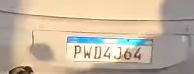Placa_mercosul_carro: (65, 36, 153, 64)
